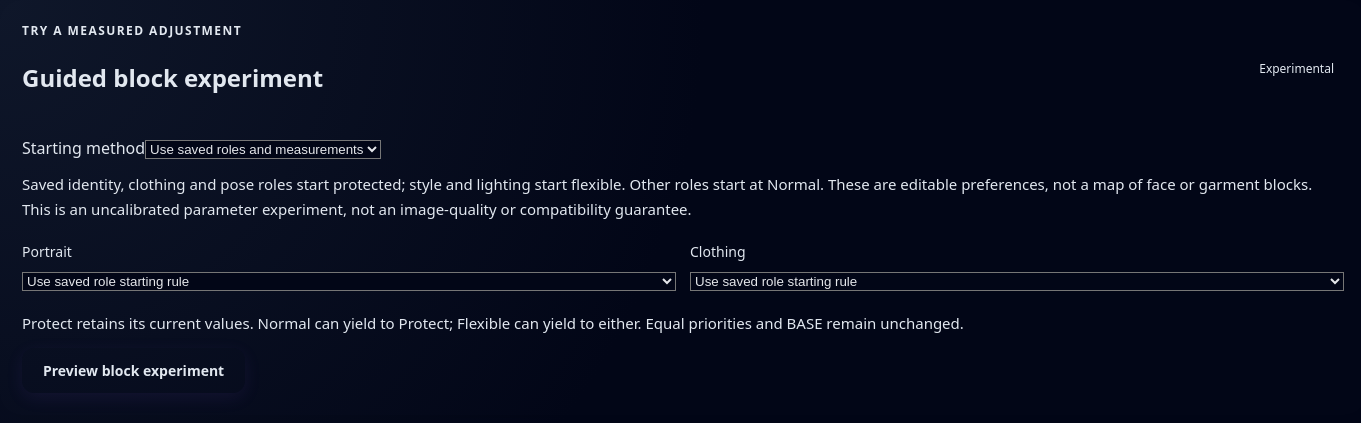
Test: guided experiments › locks editing during pending requests and ignores late responses after workspace removal
The width and height of the screenshot is (1361, 423).
Click the button "Preview block experiment". click: (134, 371)
box: 22,348 -> 245,393
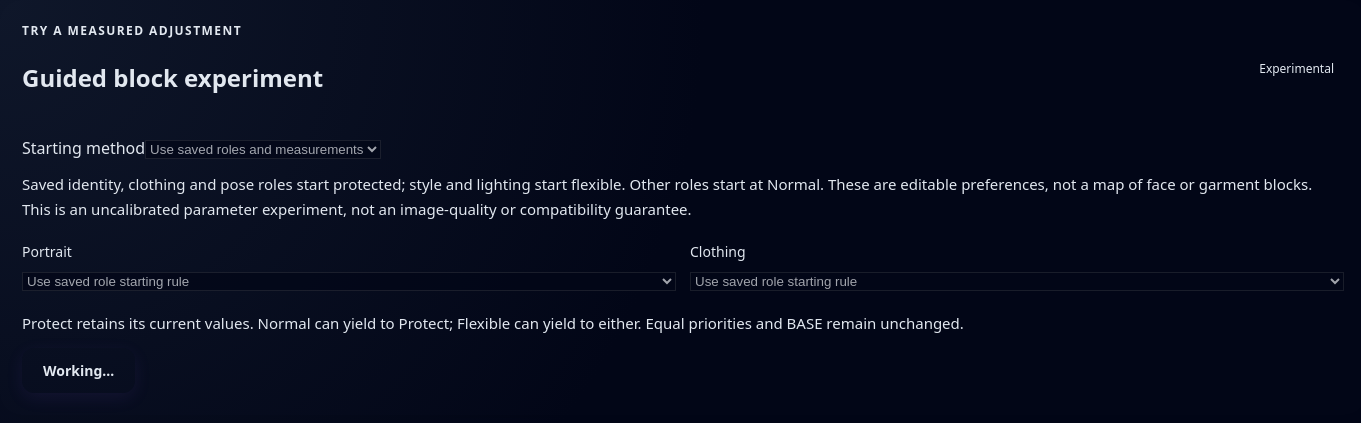
Now the dropdown named "Priority for Portrait" is disabled, box 22,272 -> 676,291
